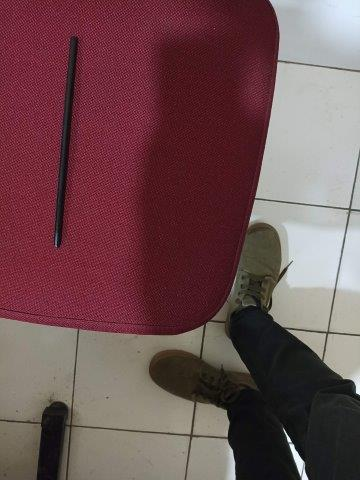sedotan: (54, 37, 79, 247)
